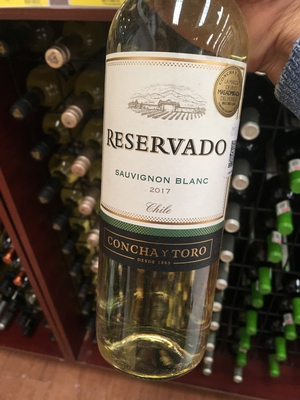reservado sauvignon blanc: (91, 10, 245, 385)
